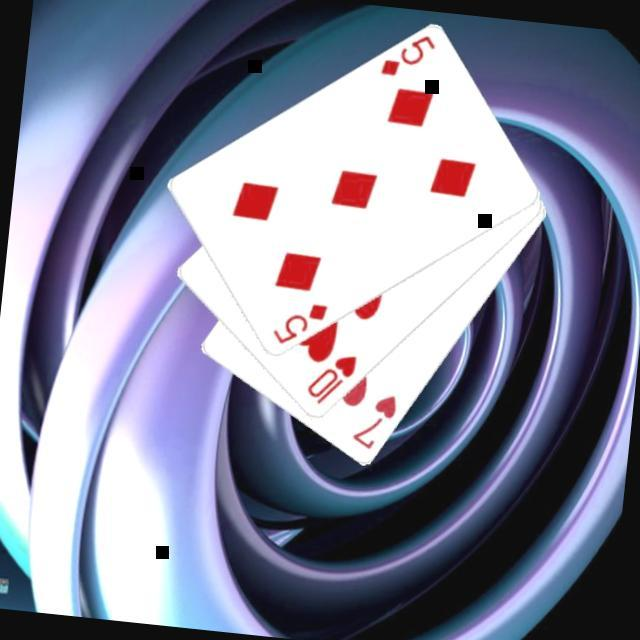10H: (303, 349, 361, 412)
5D: (376, 28, 441, 85), (268, 297, 333, 353)
7H: (348, 389, 402, 456)
